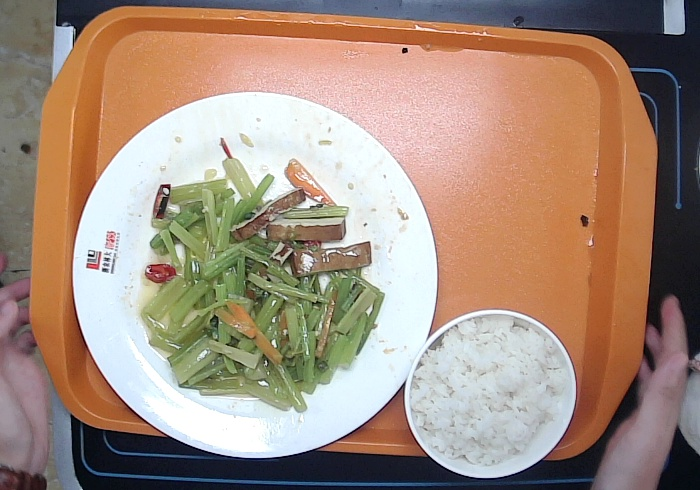ZNLD-Da_Yuan_Pan: (67, 95, 446, 465)
ZNLD-Fan_Wan: (404, 305, 581, 484)
